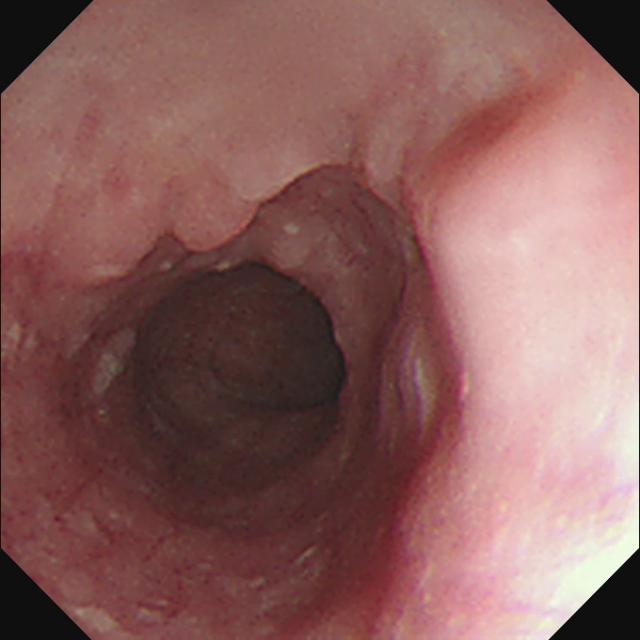A: (282, 160, 411, 274), (356, 317, 447, 447), (70, 215, 167, 293), (165, 188, 254, 258)
J: (94, 327, 138, 394), (73, 604, 132, 640), (2, 323, 45, 368)
